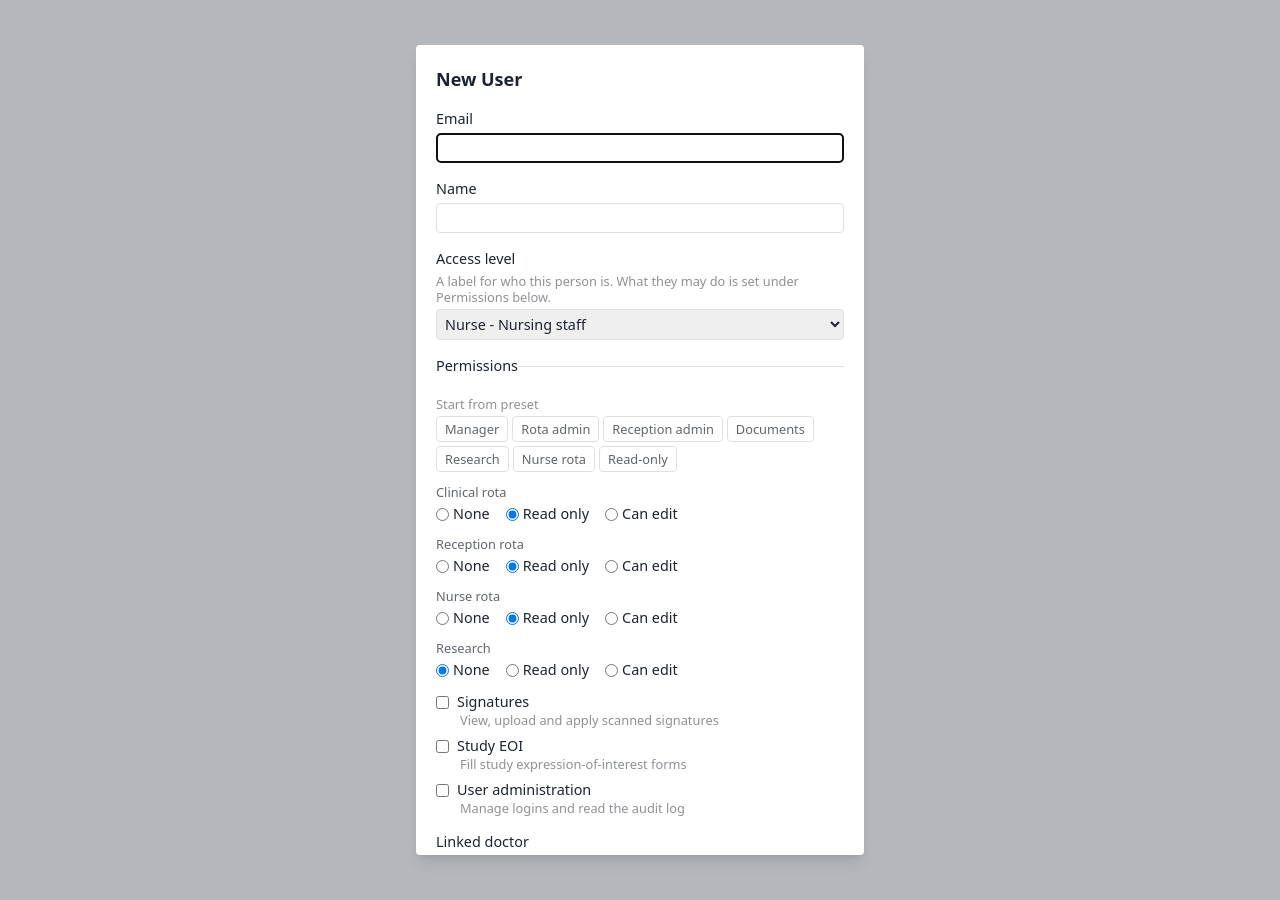
UserFormDialog - create mode › does not submit with a too-short password - shows a client-side field error
Type "cara@example.com" into the field labelled "Email" at x=640, y=148, box [436, 133, 844, 163]
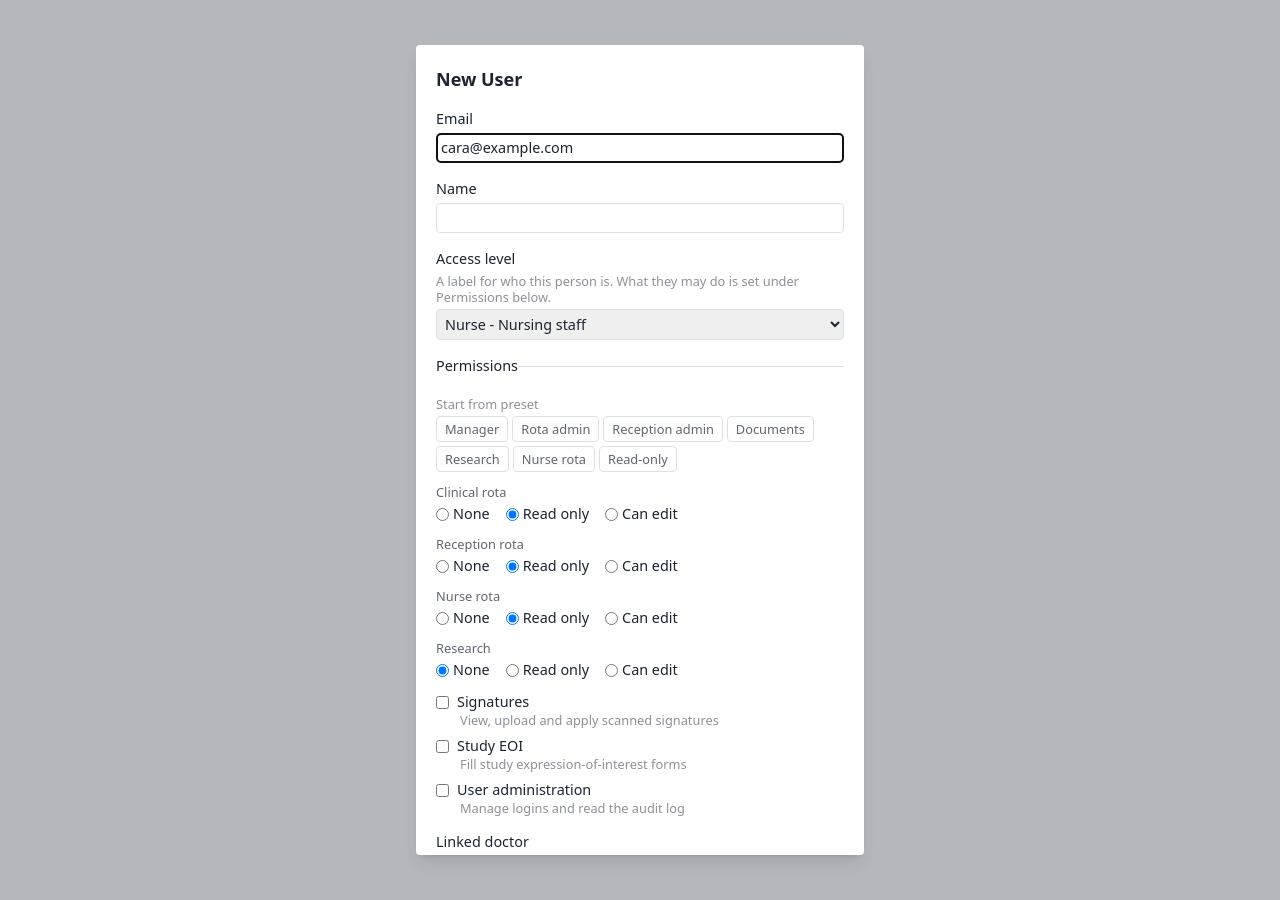
Type "Cara" into the field labelled "Name" at x=640, y=218, box [436, 203, 844, 233]
(page scrolled)
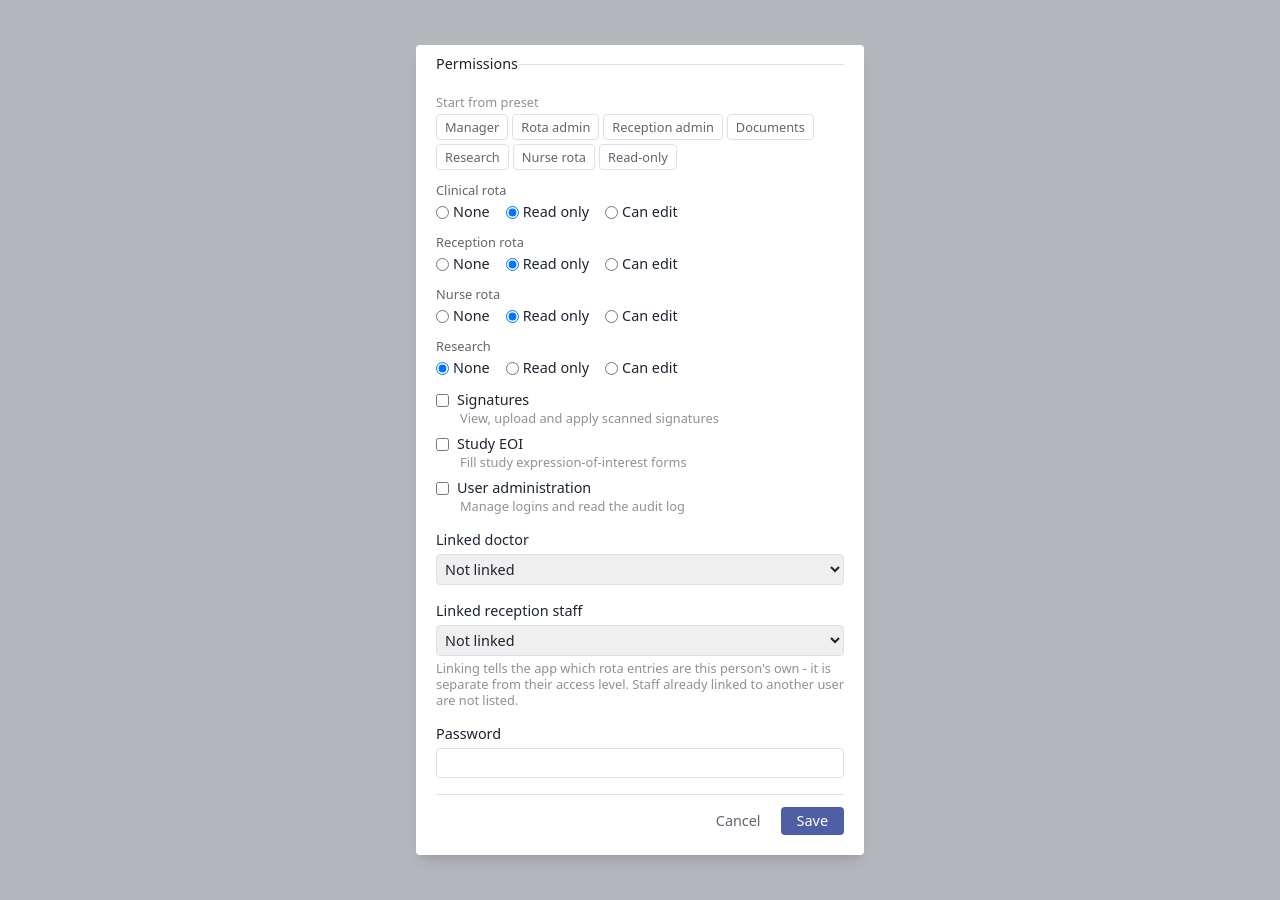
Type "short" into the password field labelled "Password" at x=640, y=763, box [436, 748, 844, 778]
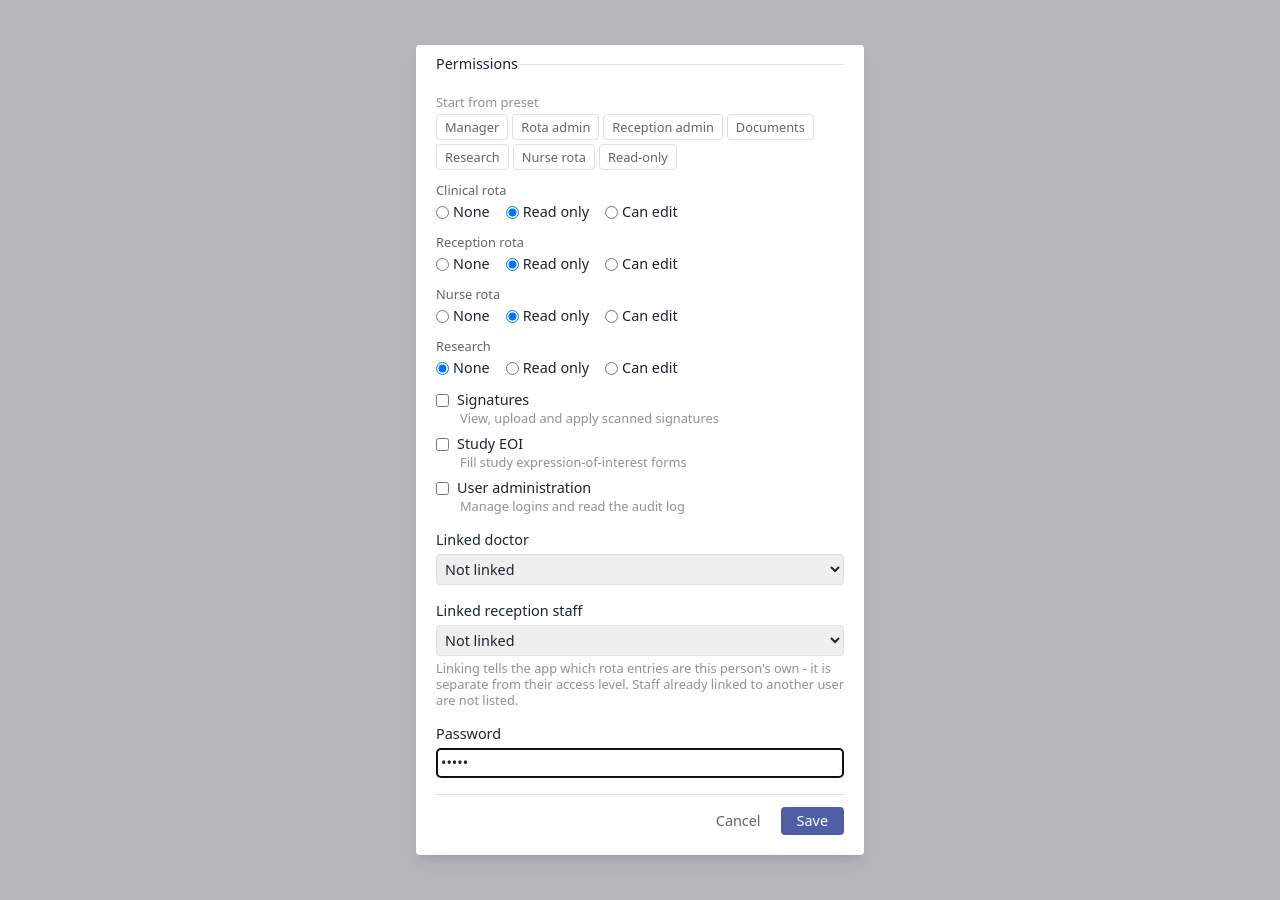
Click the button "Save" at x=812, y=821, box [781, 807, 844, 835]
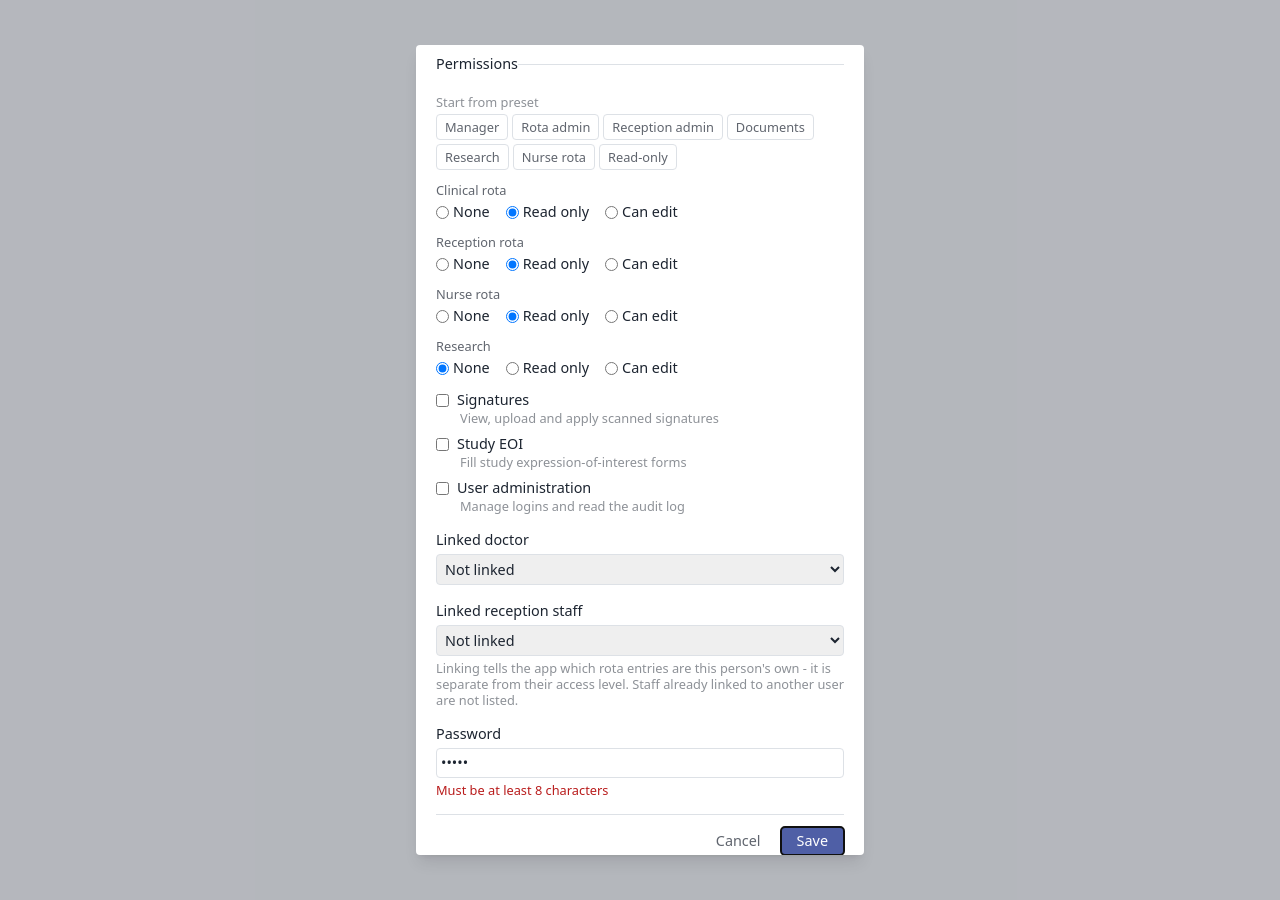
Now the text "Must be at least 8 characters" is shown, box [436, 781, 608, 799]
